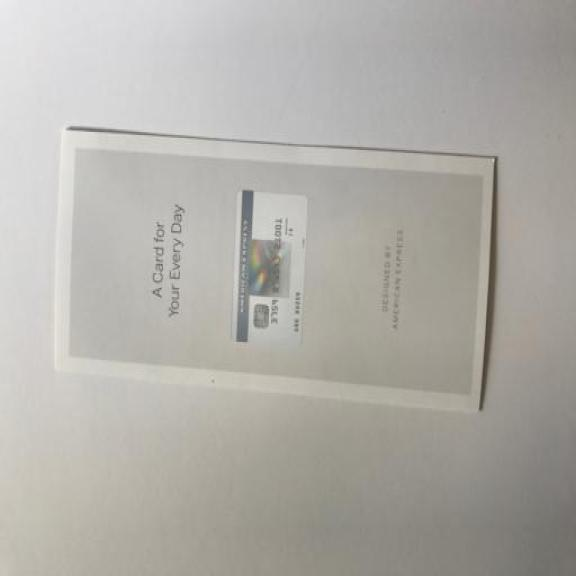Kertas: (51, 115, 508, 430)
